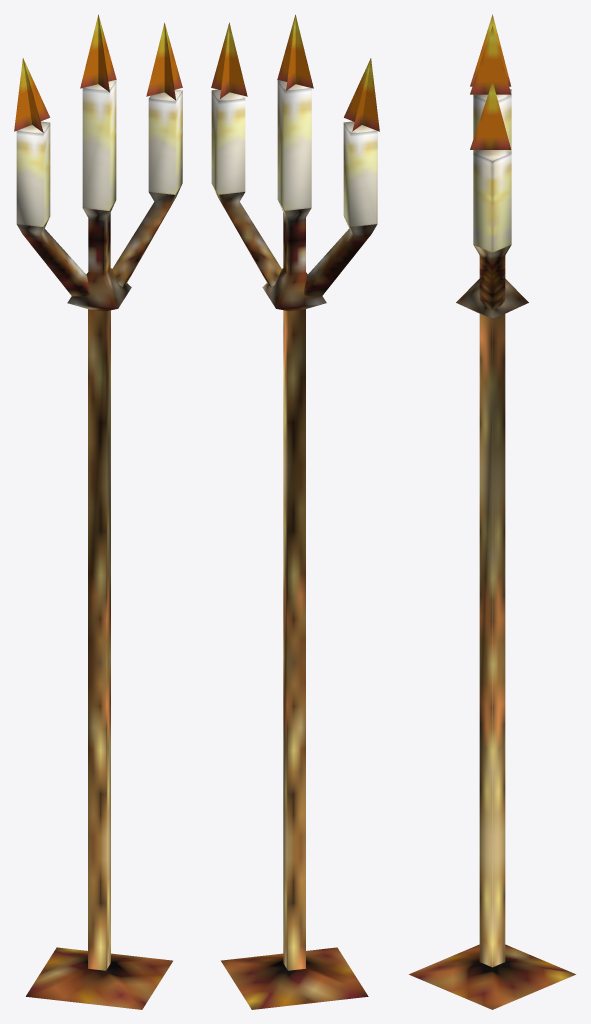
3 views of the same model, side by side, from view 1: azimuth 30°, elevation 25°; view 2: azimuth 150°, elevation 25°; view 3: azimuth 270°, elevation 25° (orthographic).
Visible parts, largest first — view 1: a57; view 2: a57; view 3: a57.
Boxes of the visible parts, x1=… form: a57: x1=14, y1=14, x2=182, y2=1009; a57: x1=211, y1=14, x2=379, y2=1009; a57: x1=409, y1=14, x2=575, y2=1009.
Bounding box in the file's own units: 98.22 × 537 × 86.19.
